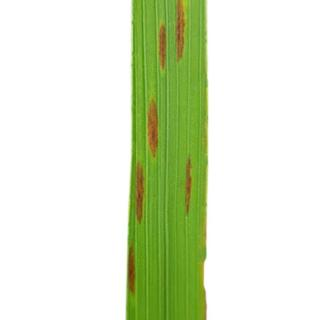Bercak-Cokelat-Sempit: (142, 92, 168, 154), (130, 157, 152, 229), (173, 0, 190, 66), (123, 241, 141, 300), (153, 19, 171, 75), (182, 156, 195, 224)
